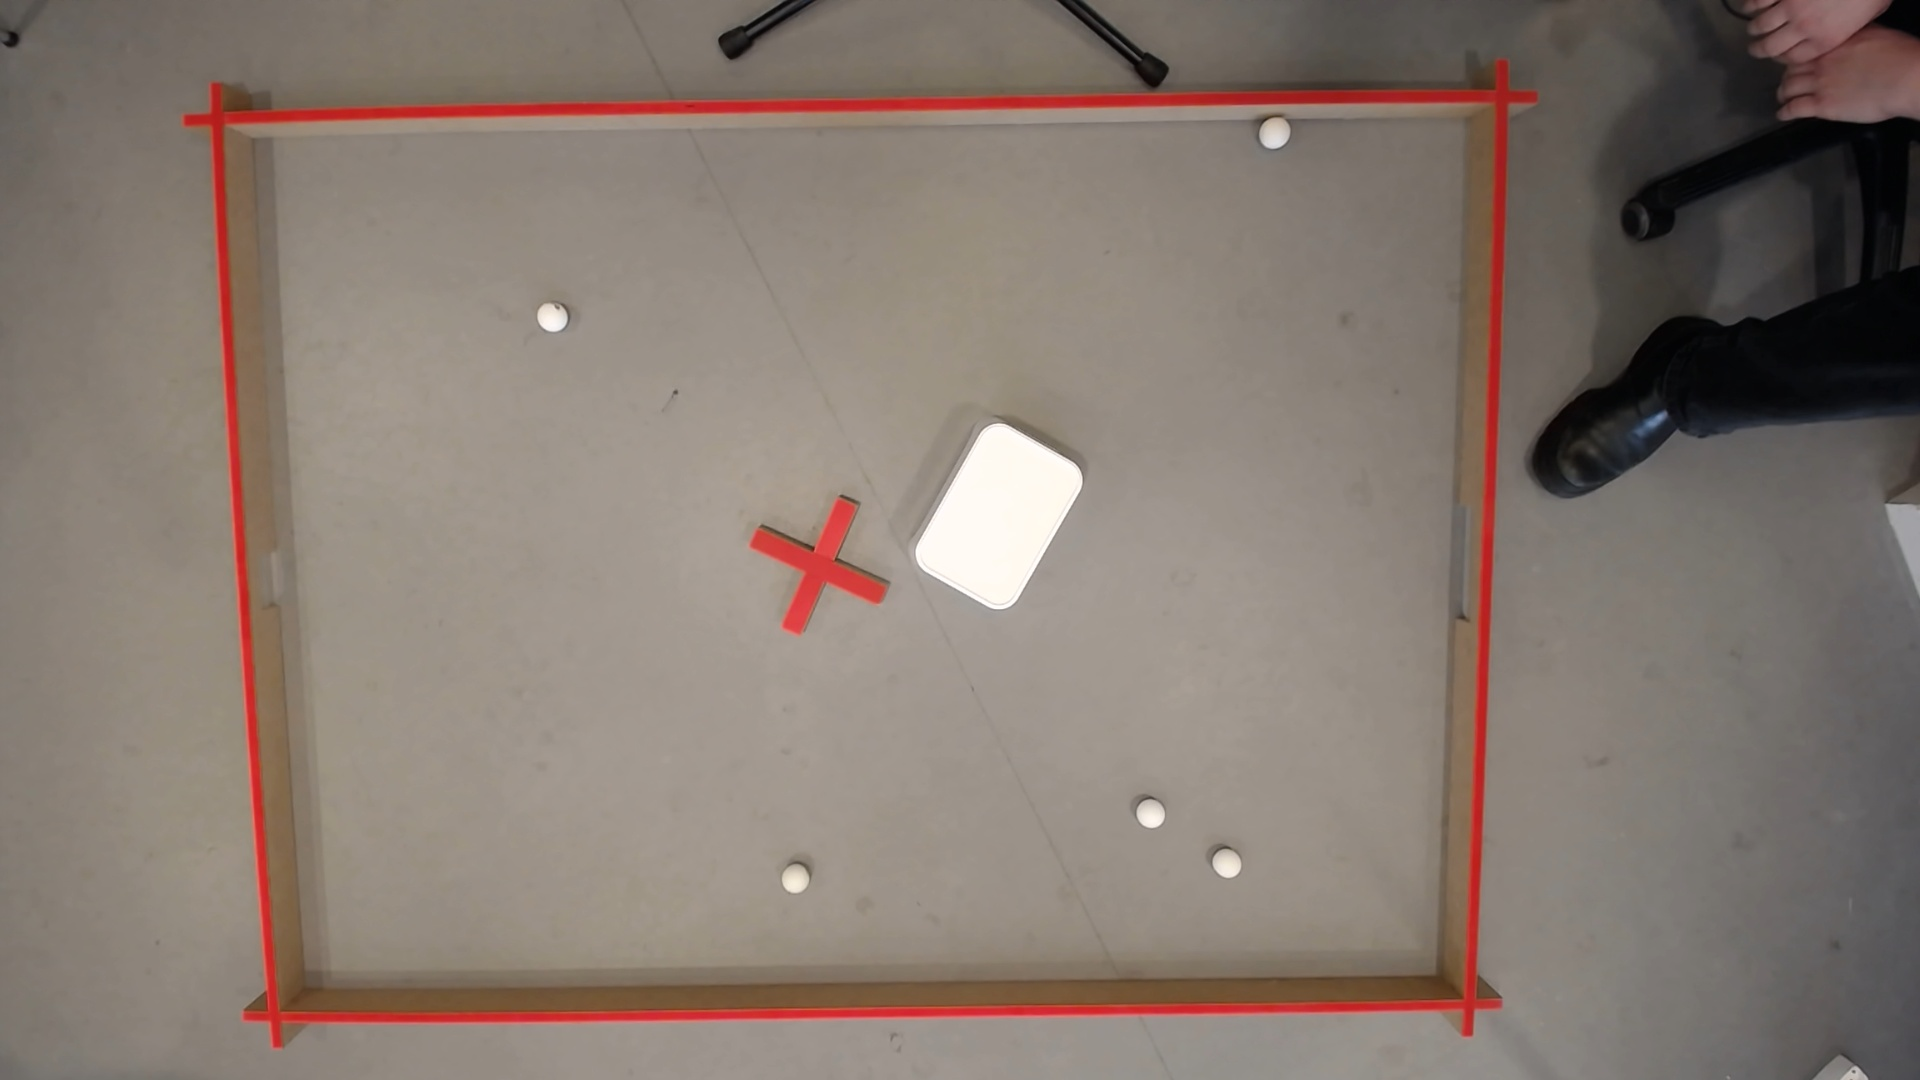balls: (905, 413, 1091, 618), (531, 301, 570, 336), (1257, 119, 1290, 153), (1134, 799, 1167, 831), (1211, 849, 1242, 880)
car: (779, 866, 808, 897)
